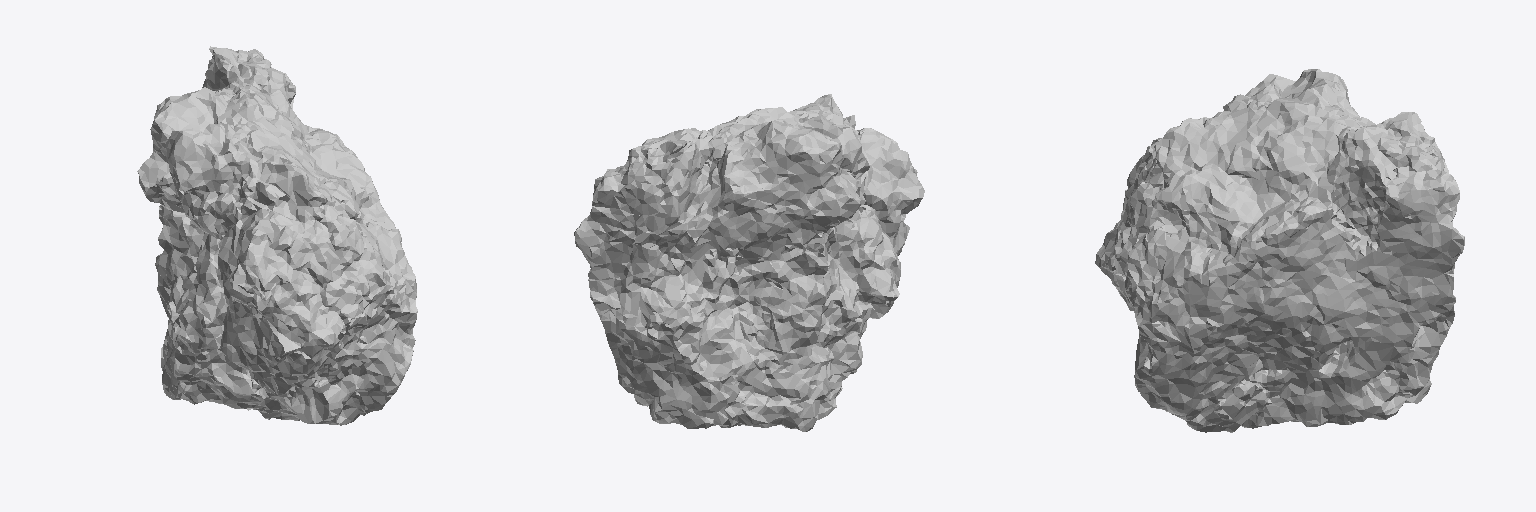
Rendered from rock2.obj.
3 renders of one model, left to right at view 1: azimuth 30°, elevation 25°; view 2: azimuth 150°, elevation 25°; view 3: azimuth 270°, elevation 25°, orthographic.
Bounding box in the file's own units: 14.47 × 20.84 × 21.98.